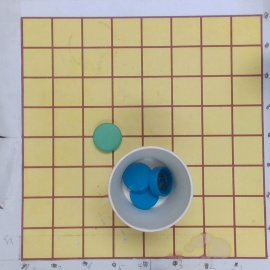cup_blue: (107, 146, 195, 233)
green: (92, 122, 121, 152)
